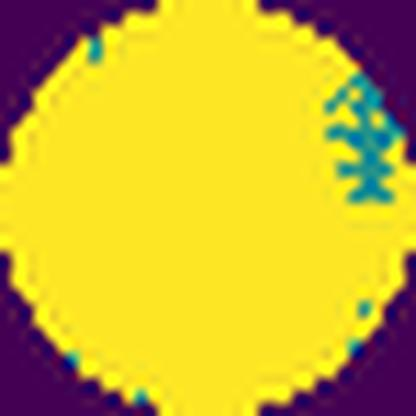Near-full: (0, 0, 350, 416)
